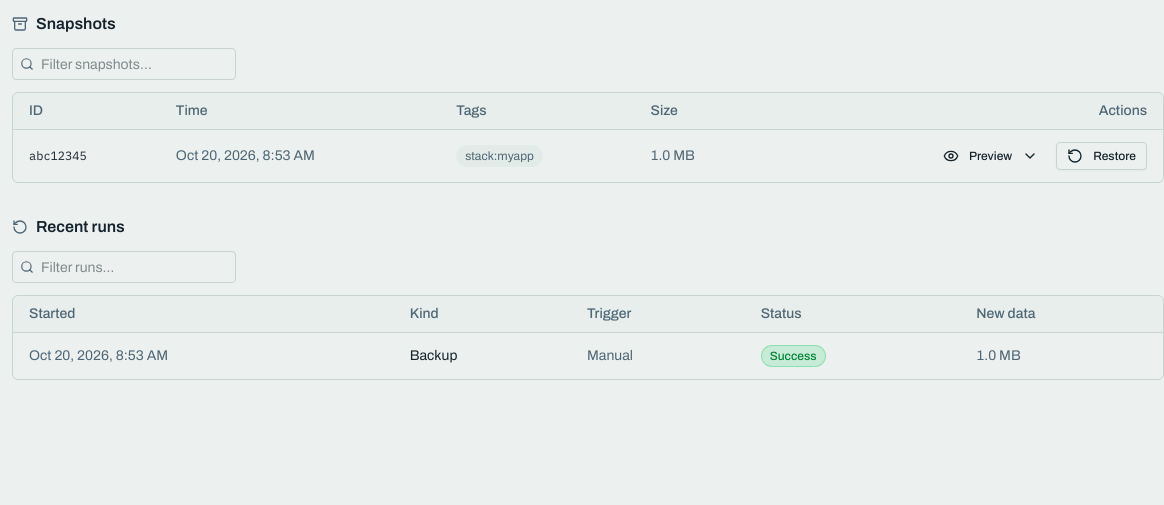
Scenario: BackupsTab — the preview row spans the snapshot table (agent-os-o9fx) › spans the preview row across every column of the snapshot table, and not the runs table
Click the button with aria-label "show preview". click: click(991, 156)
box: [933,142,1048,170]
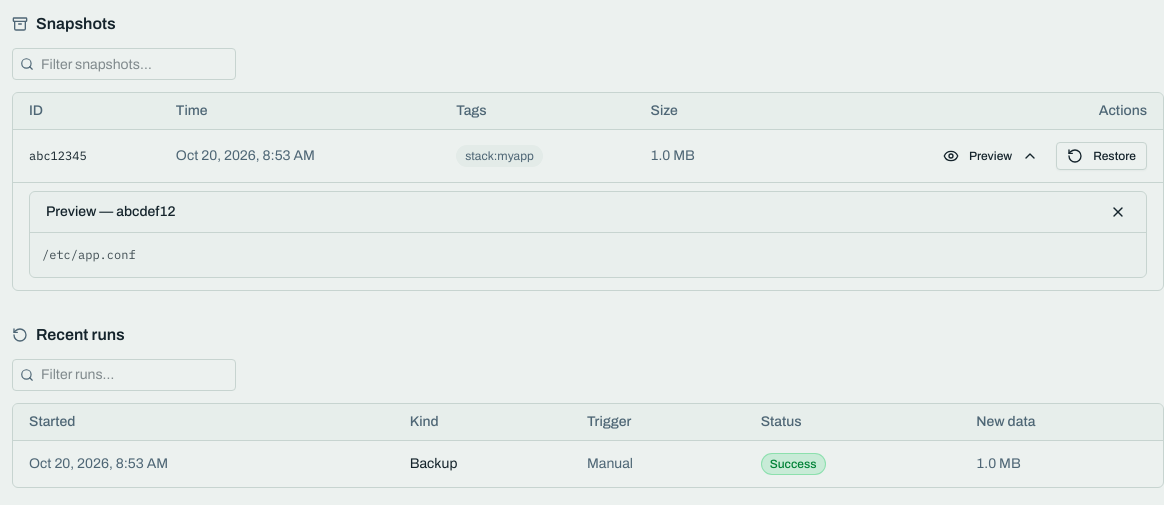
Expected: the table named "Close preview" is shown, [13,93,1163,290]
Result: the cell named "Close preview" is shown at [13,182,1163,290]
